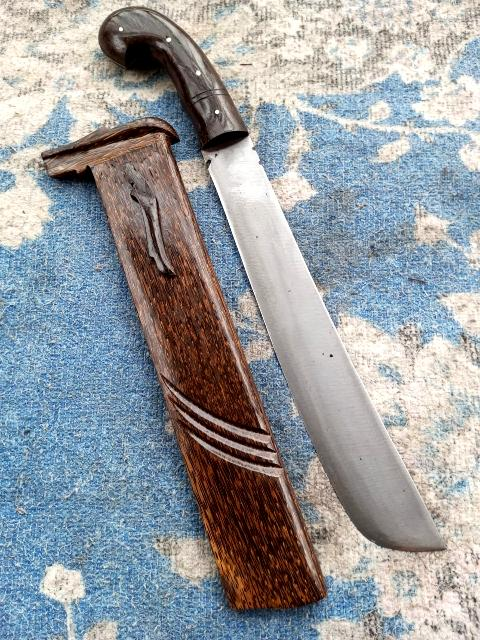long knife: (97, 6, 447, 552)
